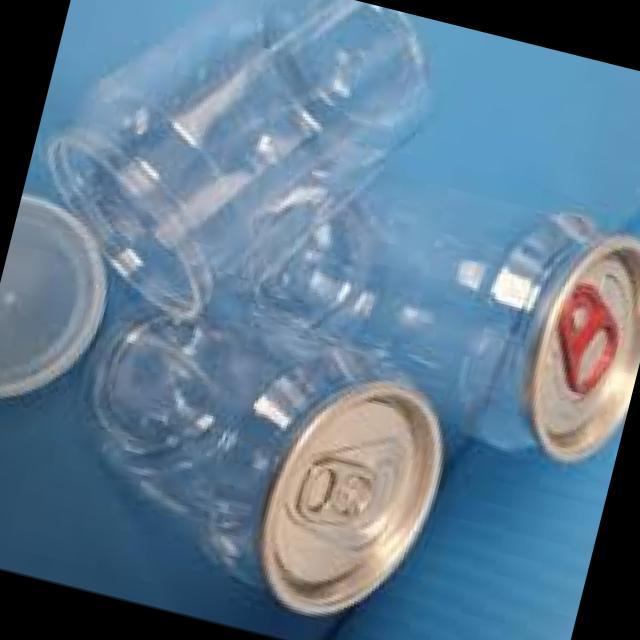good: (45, 252, 468, 636), (13, 0, 445, 361), (224, 137, 640, 478)
